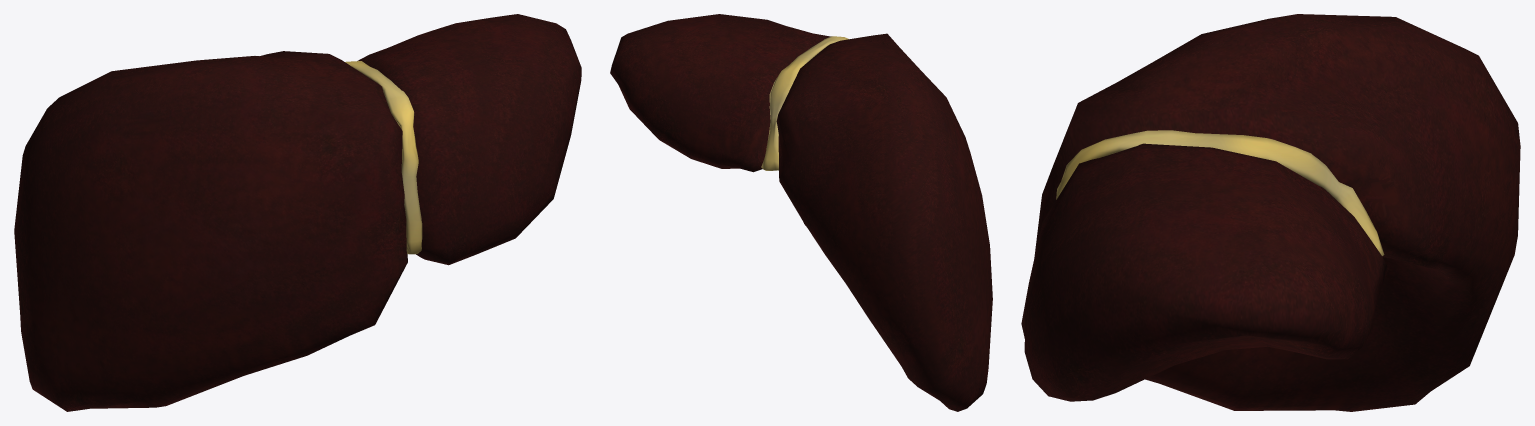
The model's file is Liver.FBX.
The picture shows the model from 3 angles, left to right: view 1: azimuth 30°, elevation 25°; view 2: azimuth 150°, elevation 25°; view 3: azimuth 270°, elevation 25°; orthographic projection. The views are drawn at different scales.
Parts seen in each view (by area): view 1: Liver, SuspensoryLigament; view 2: Liver, SuspensoryLigament; view 3: Liver, SuspensoryLigament.
Boxes of the visible parts, x1,y1,x2,y2 form: Liver: (14, 14, 581, 411); SuspensoryLigament: (345, 61, 422, 254); Liver: (610, 14, 992, 411); SuspensoryLigament: (761, 36, 849, 170); Liver: (1021, 14, 1520, 411); SuspensoryLigament: (1056, 130, 1384, 255).
Bounding box in the file's own units: 16.64 × 11.14 × 10.74.
